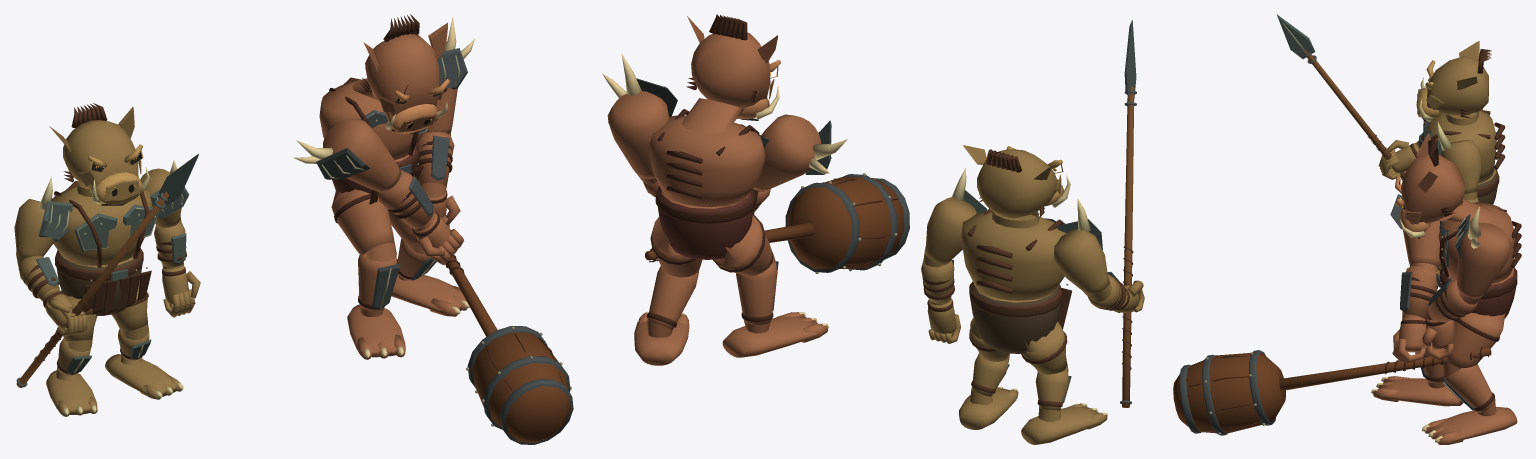
File: moblins.glb
The picture shows the model from 3 angles, left to right: view 1: azimuth 30°, elevation 25°; view 2: azimuth 150°, elevation 25°; view 3: azimuth 270°, elevation 25°; orthographic projection. The views are drawn at different scales.
Parts seen in each view (by area): view 1: Moblin.1.12.faceted timber maul, Moblin.1.07.angular boar cranium, Moblin.0.07.angular boar cranium, Moblin.0.06.tapered muscular chest, Moblin.1.14.defined shoulder and upper arm, Moblin.1.05.tapered muscular chest, Moblin.1.25.haunched thigh, Moblin.1.27.broad weight-bearing foot, Moblin.0.17.tapered spear shaft, Moblin.1.22.broad weight-bearing foot, Moblin.0.14.defined shoulder and upper arm, Moblin.0.22.broad weight-bearing foot (+29 smaller); view 2: Moblin.1.12.faceted timber maul, Moblin.1.05.tapered muscular chest, Moblin.0.06.tapered muscular chest, Moblin.1.07.angular boar cranium, Moblin.0.07.angular boar cranium, Moblin.1.09.defined shoulder and upper arm, Moblin.1.03.tapered hide-clad pelvis, Moblin.1.14.defined shoulder and upper arm, Moblin.0.03.tapered hide-clad pelvis, Moblin.0.14.defined shoulder and upper arm, Moblin.0.17.tapered spear shaft, Moblin.1.27.broad weight-bearing foot (+23 smaller); view 3: Moblin.1.12.faceted timber maul, Moblin.1.07.angular boar cranium, Moblin.1.09.defined shoulder and upper arm, Moblin.0.07.angular boar cranium, Moblin.0.06.tapered muscular chest, Moblin.1.12.heavy club timber haft, Moblin.1.22.broad weight-bearing foot, Moblin.1.20.haunched thigh, Moblin.1.05.tapered muscular chest, Moblin.1.27.broad weight-bearing foot, Moblin.1.21.tapered calf and ankle, Moblin.0.09.defined shoulder and upper arm (+15 smaller).
Part boxes in pixels (x1,y1,x2,y2): Moblin.1.12.faceted timber maul: [472, 332, 570, 442]; Moblin.1.07.angular boar cranium: [365, 34, 439, 115]; Moblin.0.07.angular boar cranium: [63, 120, 138, 187]; Moblin.0.06.tapered muscular chest: [51, 184, 152, 265]; Moblin.1.14.defined shoulder and upper arm: [323, 118, 400, 192]; Moblin.1.05.tapered muscular chest: [319, 79, 423, 160]; Moblin.1.25.haunched thigh: [331, 189, 394, 254]; Moblin.1.27.broad weight-bearing foot: [347, 305, 405, 357]; Moblin.0.17.tapered spear shaft: [16, 191, 168, 387]; Moblin.1.22.broad weight-bearing foot: [391, 275, 466, 311]; Moblin.0.14.defined shoulder and upper arm: [14, 199, 54, 258]; Moblin.0.22.broad weight-bearing foot: [105, 354, 176, 396]; Moblin.1.12.faceted timber maul: [787, 176, 904, 268]; Moblin.1.05.tapered muscular chest: [649, 115, 765, 207]; Moblin.0.06.tapered muscular chest: [961, 211, 1066, 300]; Moblin.1.07.angular boar cranium: [691, 32, 770, 108]; Moblin.0.07.angular boar cranium: [977, 149, 1057, 218]; Moblin.1.09.defined shoulder and upper arm: [607, 91, 669, 178]; Moblin.1.03.tapered hide-clad pelvis: [657, 189, 753, 259]; Moblin.1.14.defined shoulder and upper arm: [753, 114, 820, 191]; Moblin.0.03.tapered hide-clad pelvis: [971, 285, 1060, 353]; Moblin.0.14.defined shoulder and upper arm: [1053, 229, 1109, 295]; Moblin.0.17.tapered spear shaft: [1122, 86, 1134, 407]; Moblin.1.27.broad weight-bearing foot: [722, 316, 818, 357]; Moblin.1.12.faceted timber maul: [1173, 352, 1285, 433]; Moblin.1.07.angular boar cranium: [1401, 154, 1465, 224]; Moblin.1.09.defined shoulder and upper arm: [1457, 223, 1511, 298]; Moblin.0.07.angular boar cranium: [1427, 56, 1488, 115]; Moblin.0.06.tapered muscular chest: [1424, 109, 1496, 183]; Moblin.1.12.heavy club timber haft: [1279, 347, 1491, 390]; Moblin.1.22.broad weight-bearing foot: [1429, 406, 1517, 441]; Moblin.1.20.haunched thigh: [1444, 314, 1502, 368]; Moblin.1.05.tapered muscular chest: [1438, 202, 1514, 283]; Moblin.1.27.broad weight-bearing foot: [1379, 378, 1463, 406]; Moblin.1.21.tapered calf and ankle: [1444, 364, 1495, 412]; Moblin.0.09.defined shoulder and upper arm: [1441, 140, 1482, 193].
Size of the model in its own units: 148 by 97.74 by 106.
